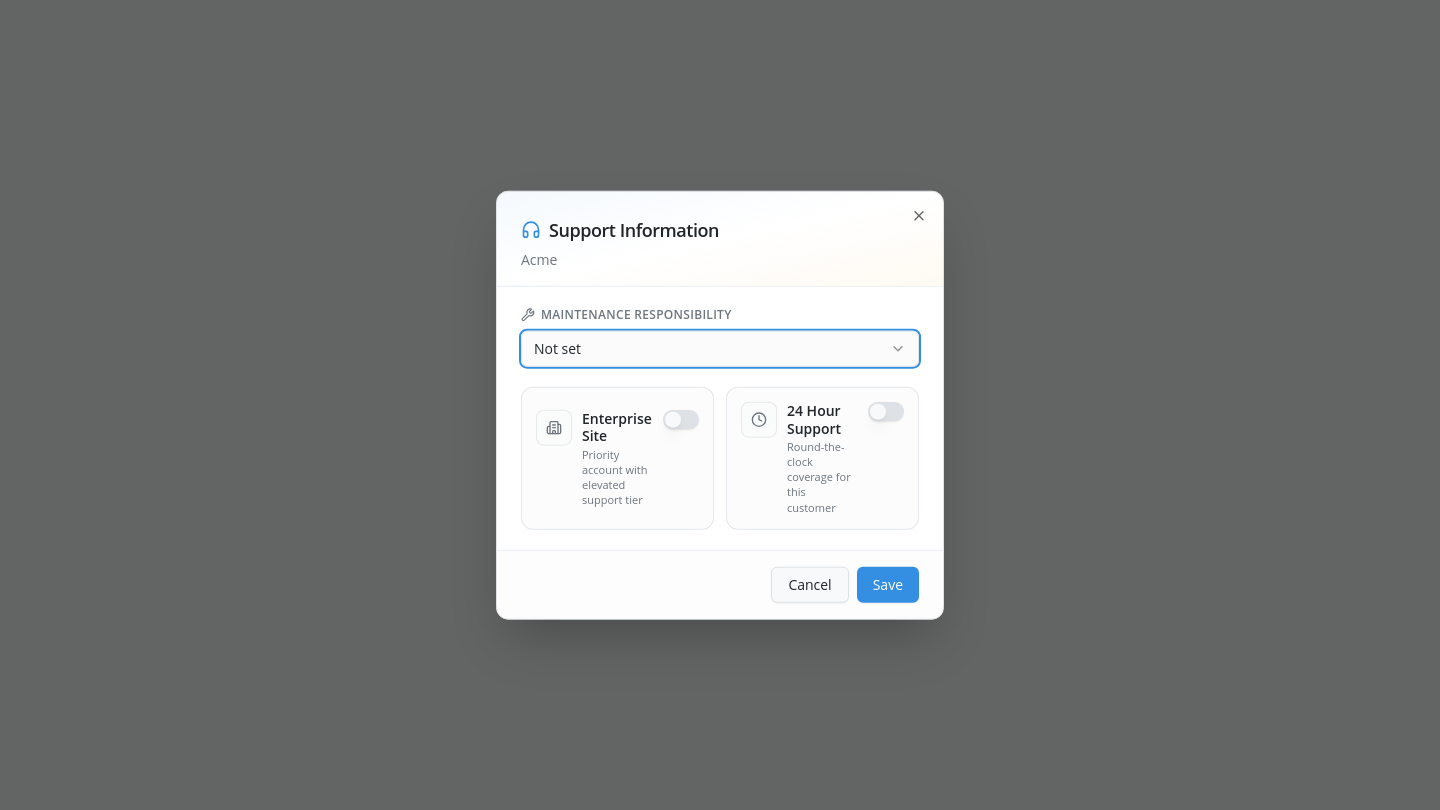
Test: maintenance responsibility › offers Not set, Ensight, APS and Other
This screenshot has width=1440, height=810.
Click the dropdown at (558, 348), box x1=521 y1=331 x2=919 y2=367
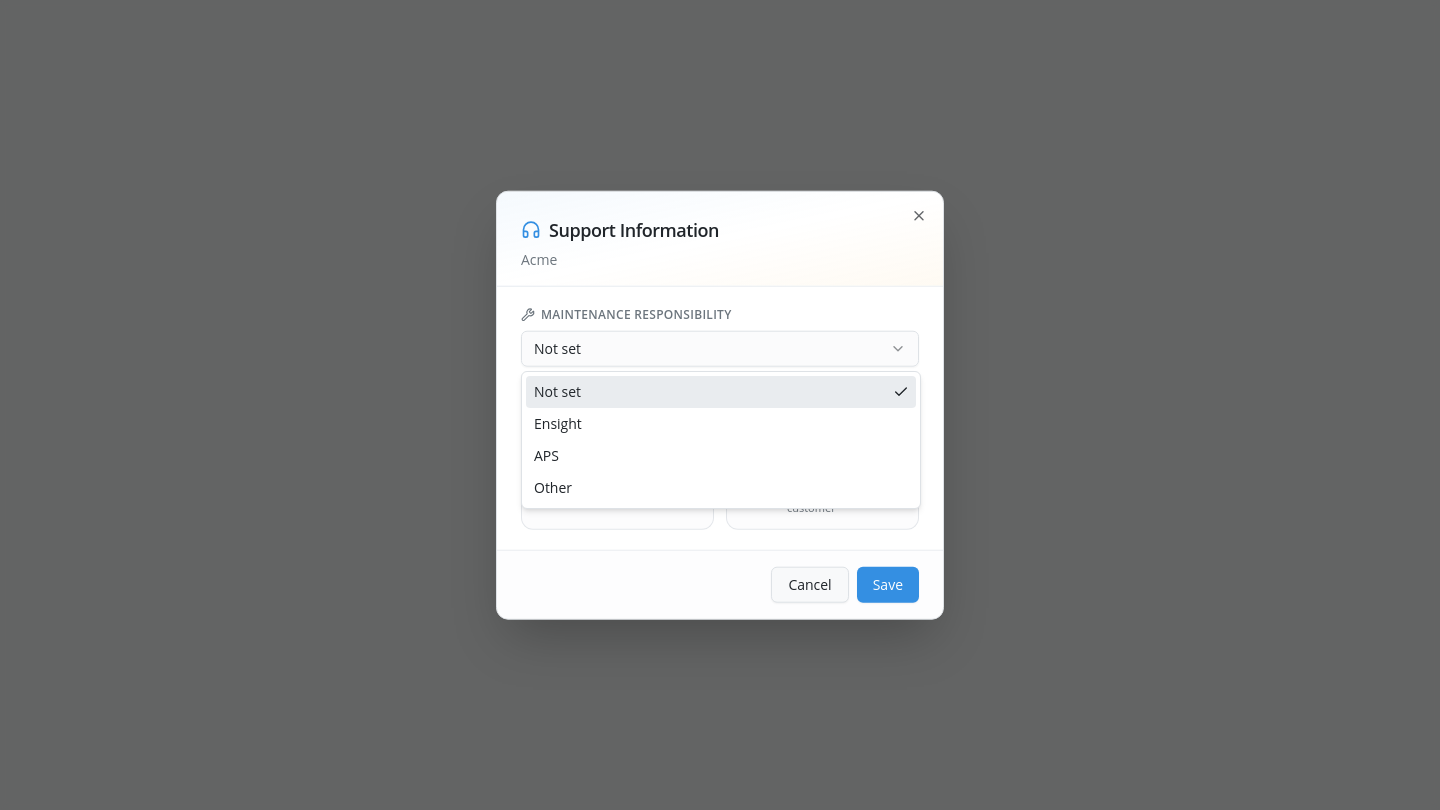
Now the option "Not set" is shown, box x1=526 y1=376 x2=916 y2=408
Now the option "Ensight" is shown, box x1=534 y1=414 x2=582 y2=433
Now the option "APS" is shown, box x1=534 y1=446 x2=559 y2=465
